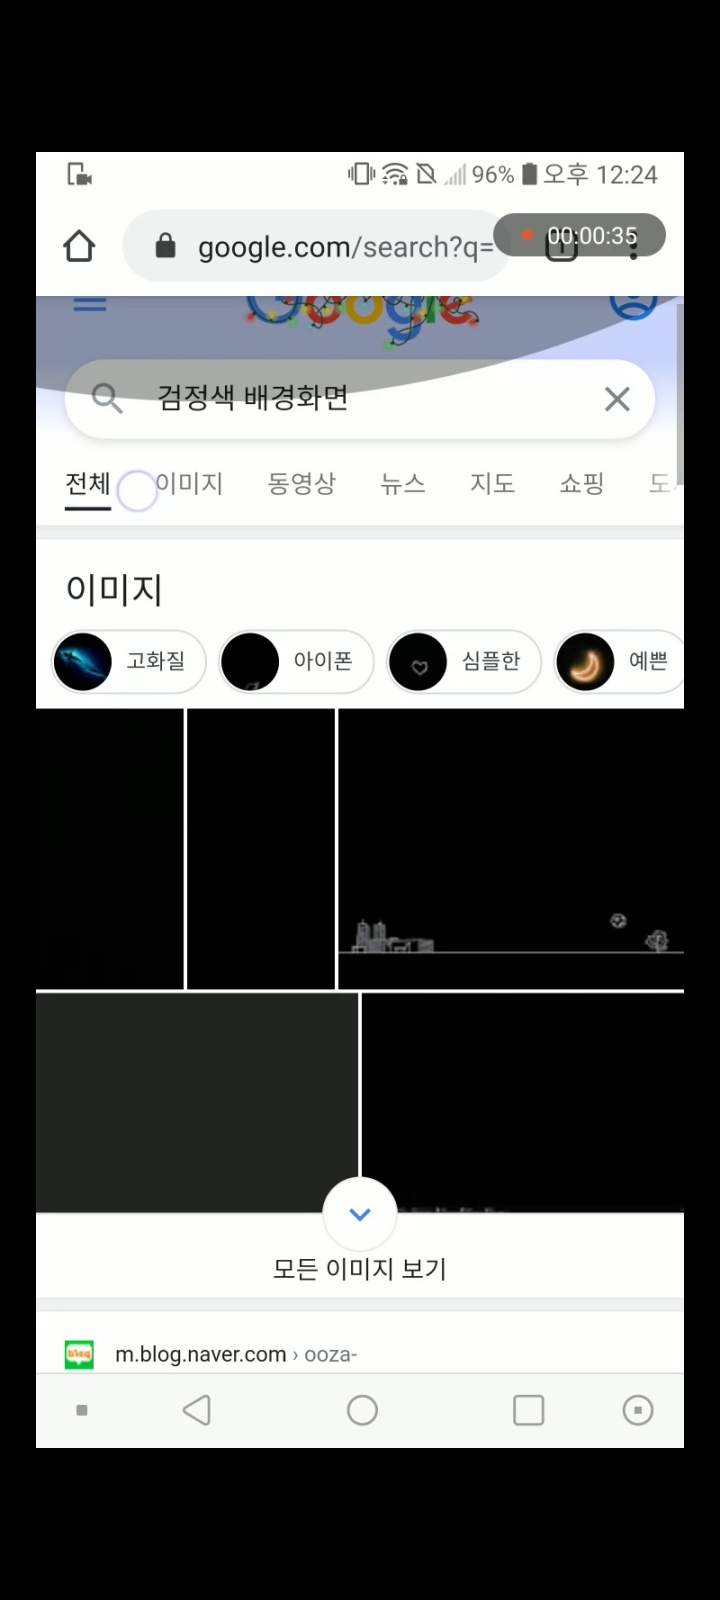Cursor: (116, 468, 161, 513)
